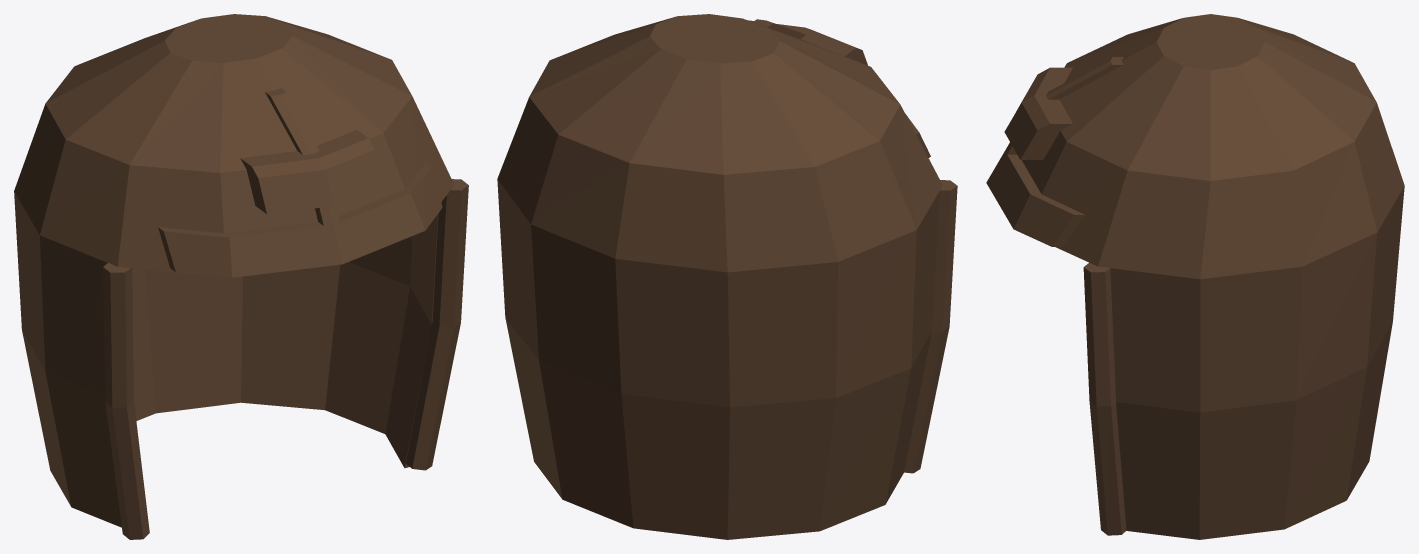
The model's file is leather_head-female-thickHide.glb.
The picture shows the model from 3 angles, left to right: view 1: azimuth 30°, elevation 25°; view 2: azimuth 150°, elevation 25°; view 3: azimuth 270°, elevation 25°; orthographic projection. The views are drawn at different scales.
Visible parts, largest first — view 1: leather joined crown and nape guard, Fitted brow binding, Bound face opening 1, Bound face opening -1, Heavy hide binding leather joined crown and nape guard, Cap crown sewn seam; view 2: leather joined crown and nape guard, Bound face opening -1, Heavy hide binding leather joined crown and nape guard; view 3: leather joined crown and nape guard, Bound face opening 1, Fitted brow binding, Heavy hide binding leather joined crown and nape guard, Cap crown sewn seam.
Boxes of the visible parts, box(x1,y1,x2,y2) form: leather joined crown and nape guard: box(14, 14, 454, 527); Fitted brow binding: box(158, 162, 442, 277); Bound face opening 1: box(406, 179, 468, 470); Bound face opening -1: box(103, 262, 149, 539); Heavy hide binding leather joined crown and nape guard: box(240, 130, 383, 214); Cap crown sewn seam: box(265, 88, 339, 225); leather joined crown and nape guard: box(497, 14, 942, 539); Bound face opening -1: box(904, 180, 957, 473); Heavy hide binding leather joined crown and nape guard: box(748, 20, 867, 65); leather joined crown and nape guard: box(1022, 14, 1404, 539); Bound face opening 1: box(1083, 262, 1126, 535); Fitted brow binding: box(986, 151, 1085, 246); Heavy hide binding leather joined crown and nape guard: box(1004, 67, 1072, 159); Cap crown sewn seam: box(1005, 57, 1123, 154).
Bounding box in the file's own units: 1.03 × 1.08 × 0.9686.
